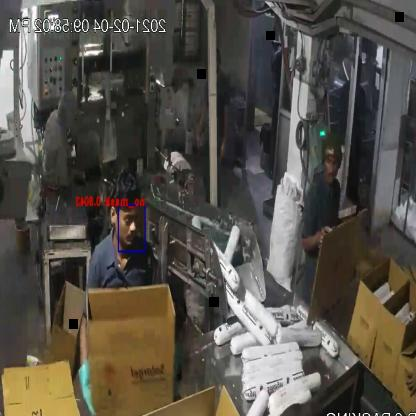glove: (72, 298, 99, 416)
no_glove: (296, 219, 337, 261), (215, 93, 233, 165), (401, 359, 416, 403)
